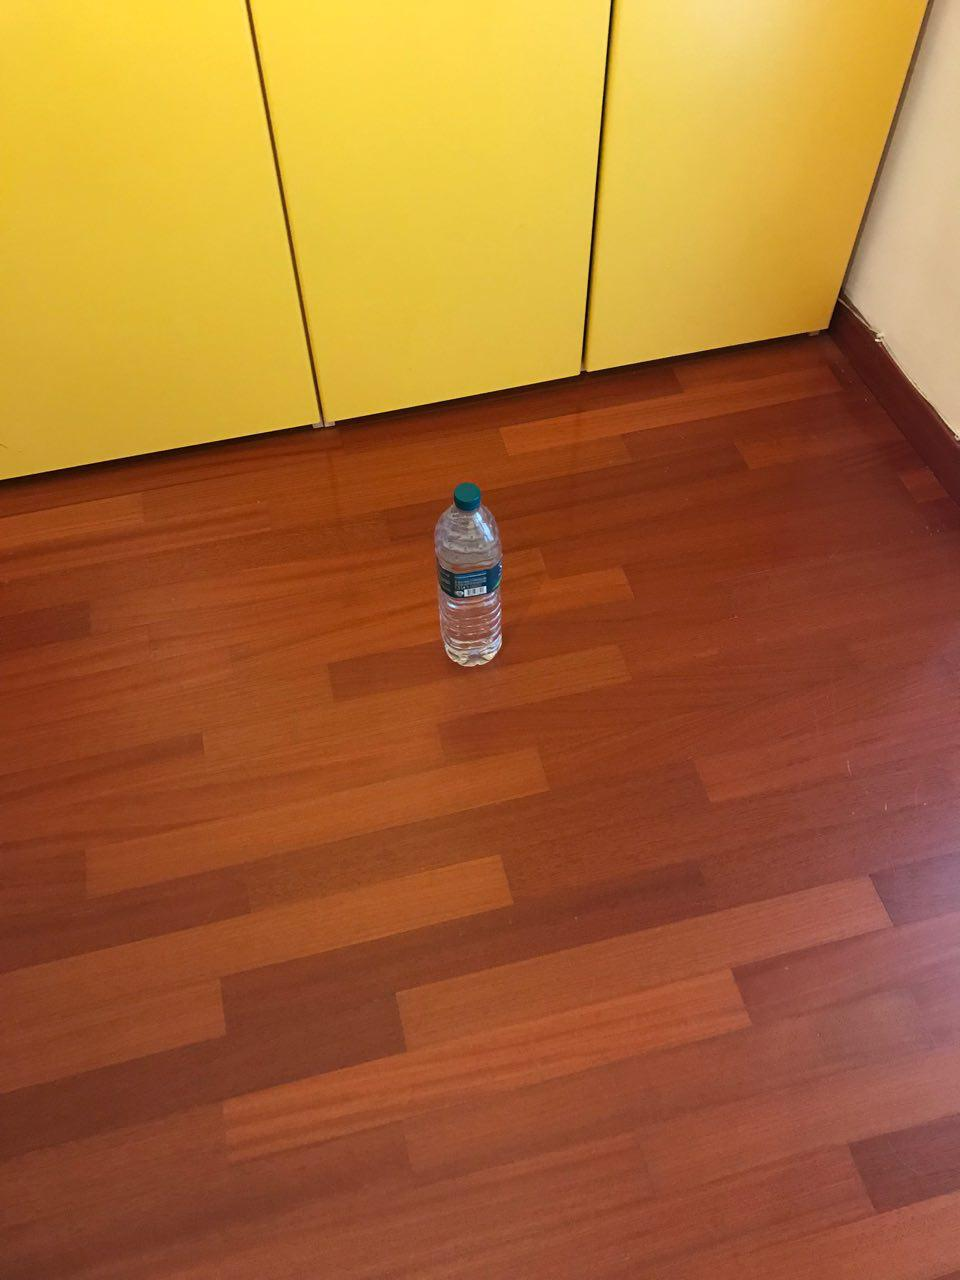san_bernardo: (433, 481, 504, 667)
